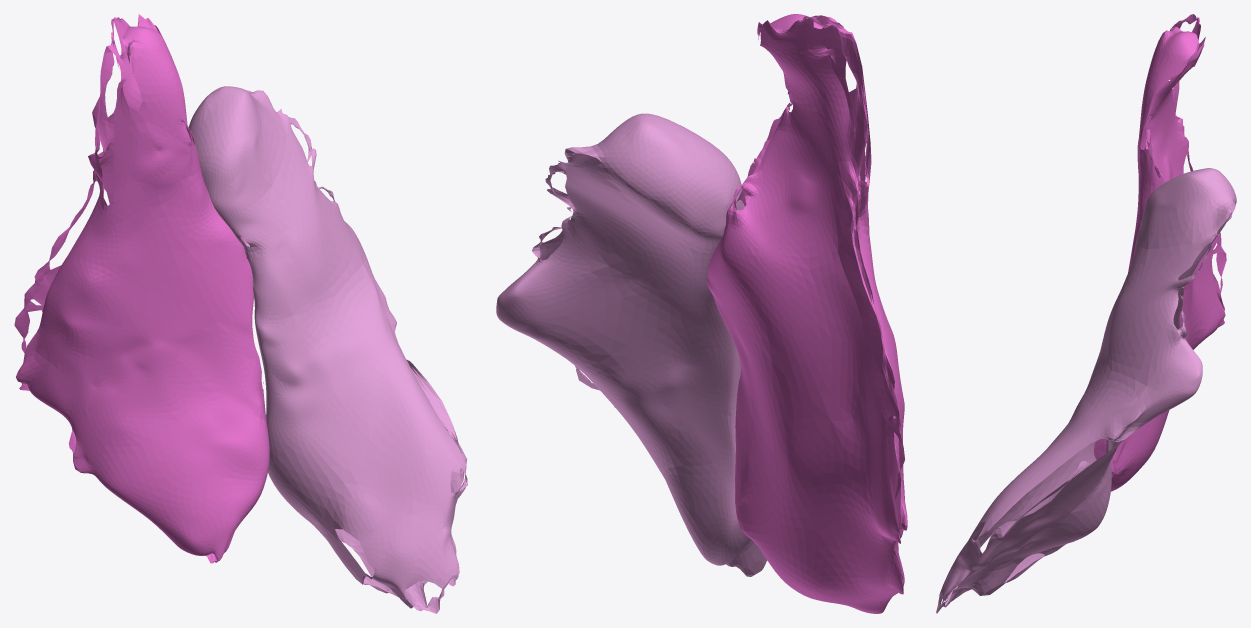
The model's file is timo.glb.
3 views of the same model, side by side, from view 1: azimuth 30°, elevation 25°; view 2: azimuth 150°, elevation 25°; view 3: azimuth 270°, elevation 25° (orthographic). The views are drawn at different scales.
Parts seen in each view (by area): view 1: right lobe of thymus, left lobe of thymus; view 2: right lobe of thymus, left lobe of thymus; view 3: left lobe of thymus, right lobe of thymus.
Boxes of the visible parts, x1,y1,x2,y2 form: right lobe of thymus: (14,14,269,563); left lobe of thymus: (189,86,467,613); right lobe of thymus: (707,14,907,613); left lobe of thymus: (496,113,767,576); left lobe of thymus: (936,168,1236,613); right lobe of thymus: (1094,14,1226,491).
Bounding box in the file's own units: 49.59 × 76.34 × 40.59.
